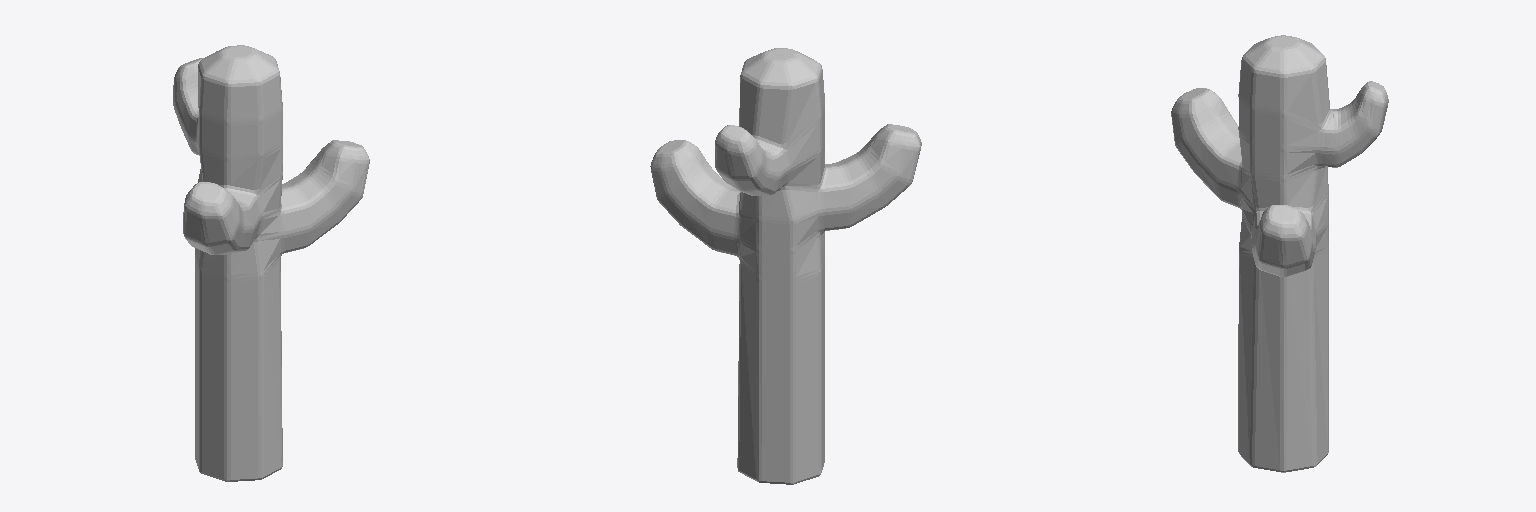
The model's file is cactus_01.obj.
3 views of the same model, side by side, from view 1: azimuth 30°, elevation 25°; view 2: azimuth 150°, elevation 25°; view 3: azimuth 270°, elevation 25° (orthographic).
Parts seen in each view (by area): view 1: Cylinder_Cylinder.001; view 2: Cylinder_Cylinder.001; view 3: Cylinder_Cylinder.001.
Part boxes in pixels (bbox=[...]): Cylinder_Cylinder.001: bbox=[173, 45, 369, 481]; Cylinder_Cylinder.001: bbox=[650, 48, 921, 484]; Cylinder_Cylinder.001: bbox=[1171, 35, 1388, 472].
Size of the model in its own units: 5.58 by 9.89 by 4.72.